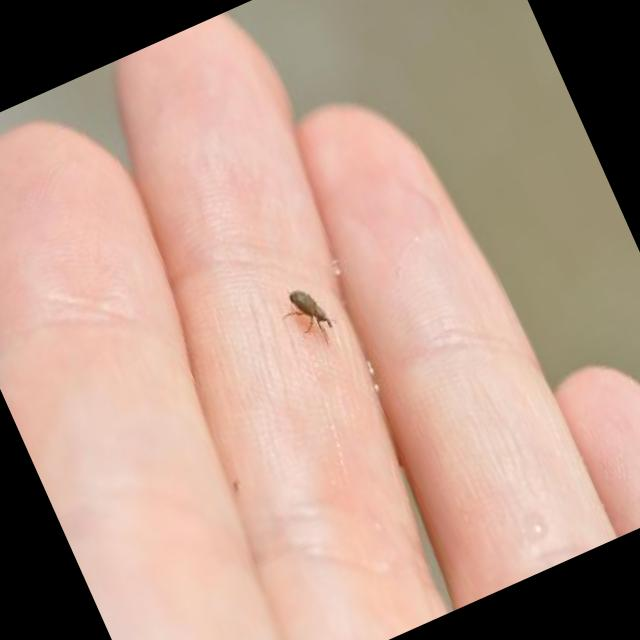rice-bug: (281, 275, 344, 352)
